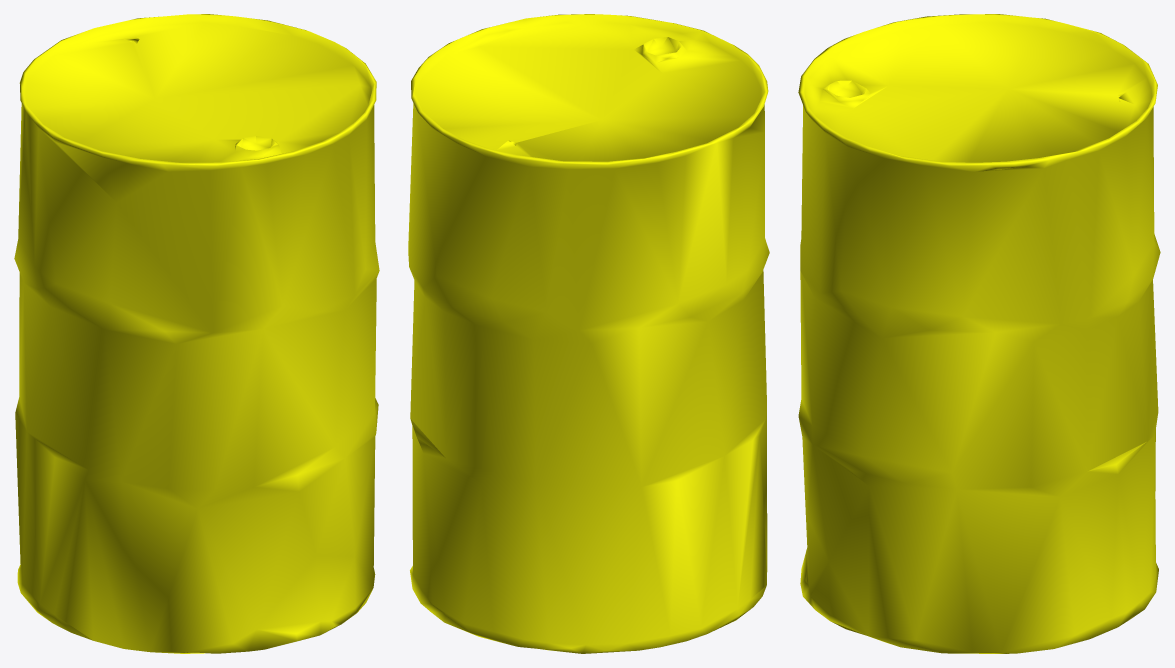
Rendered from junk1.glb.
3 views of the same model, side by side, from view 1: azimuth 30°, elevation 25°; view 2: azimuth 150°, elevation 25°; view 3: azimuth 270°, elevation 25° (orthographic).
Visible parts, largest first — view 1: teraccgda_LOD0_TIER3_000; view 2: teraccgda_LOD0_TIER3_000; view 3: teraccgda_LOD0_TIER3_000.
Part boxes in pixels (x1,y1,x2,y2): teraccgda_LOD0_TIER3_000: (14,14,379,653); teraccgda_LOD0_TIER3_000: (408,14,769,653); teraccgda_LOD0_TIER3_000: (798,14,1160,653).
Bounding box in the file's own units: 0.5819 × 0.8751 × 0.5827.
Materials: 1 (1 with a texture image).
